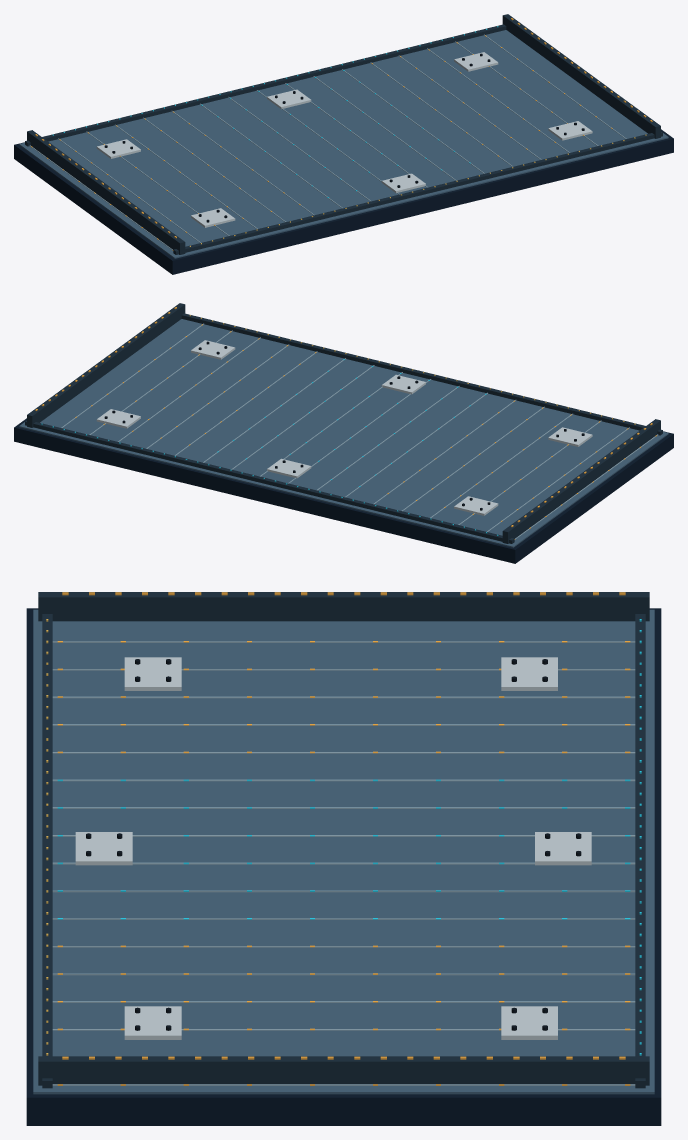
File: 00_L79_Industrial3DHybridBondingBase.fbx
3 renders of one model, top to bottom at view 1: azimuth 30°, elevation 25°; view 2: azimuth 150°, elevation 25°; view 3: azimuth 270°, elevation 25°, orthographic. The views are drawn at different scales.
Visible parts, largest first — view 1: Industrial3DHybridBondingBase; view 2: Industrial3DHybridBondingBase; view 3: Industrial3DHybridBondingBase.
Boxes of the visible parts, <box> form: Industrial3DHybridBondingBase: <box>14,14,673,274</box>; Industrial3DHybridBondingBase: <box>14,303,673,563</box>; Industrial3DHybridBondingBase: <box>26,592,661,1125</box>.
Size of the model in its own units: 2245 by 120 by 1230.
